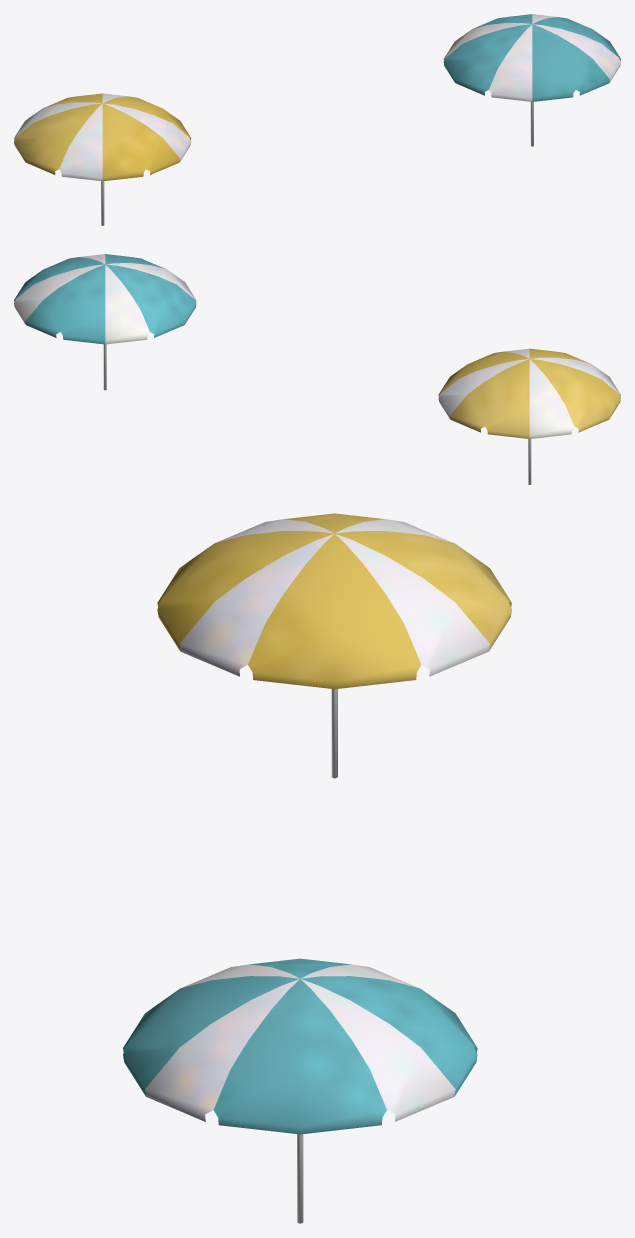
The model's file is mdl_brush_umbrella.gltf.
The picture shows the model from 3 angles, top to bottom: view 1: azimuth 30°, elevation 25°; view 2: azimuth 150°, elevation 25°; view 3: azimuth 270°, elevation 25°; orthographic projection. The views are drawn at different scales.
Parts seen in each view (by area): view 1: Sphere.002, Sphere.001; view 2: Sphere.002, Sphere.001; view 3: Sphere.002, Sphere.001.
Part boxes in pixels (x1=…): Sphere.002: x1=443, y1=14, x2=620, y2=101; Sphere.001: x1=14, y1=93, x2=191, y2=181; Sphere.002: x1=14, y1=254, x2=196, y2=344; Sphere.001: x1=438, y1=348, x2=620, y2=438; Sphere.002: x1=123, y1=958, x2=477, y2=1134; Sphere.001: x1=157, y1=513, x2=511, y2=689.
Bounding box in the file's own units: 16.65 × 3.83 × 4.87.
1 material, 1 textured.
